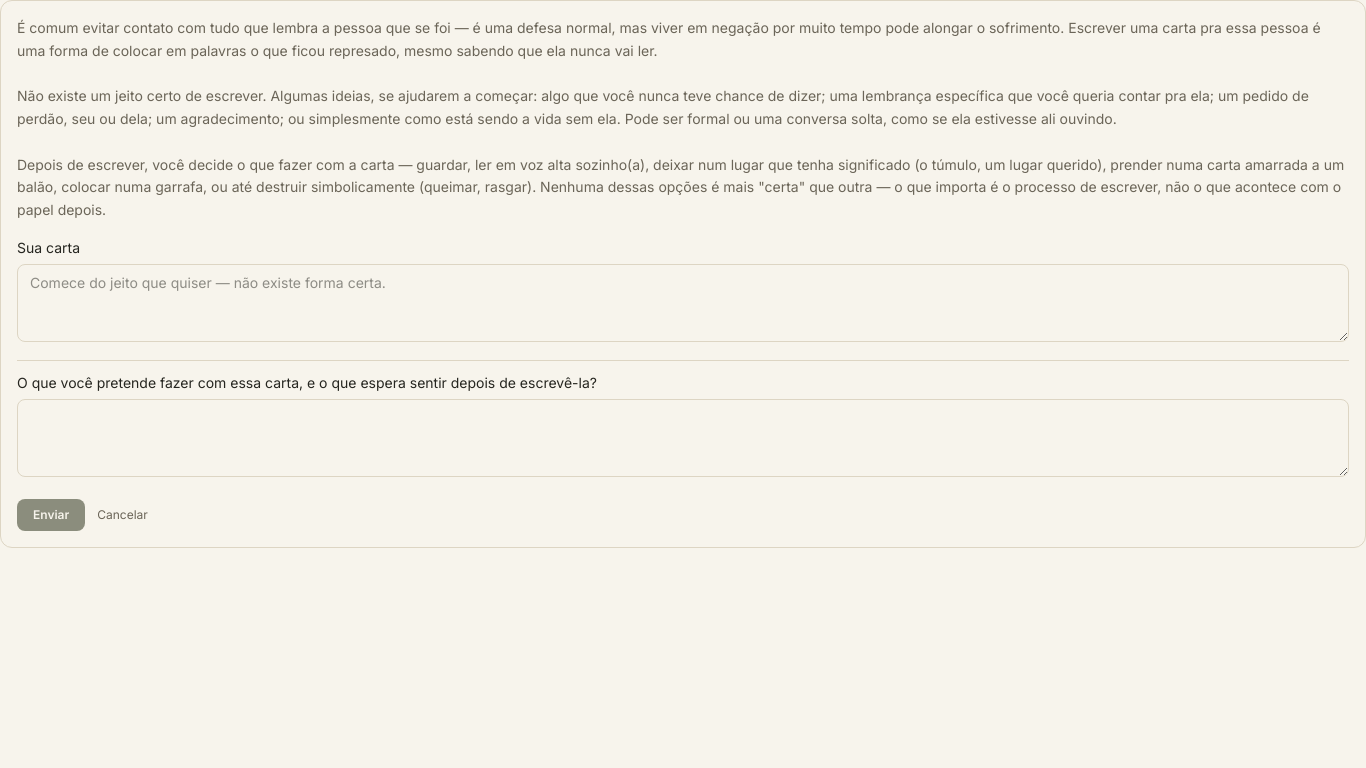
Test: ExerciseForm › submits answers in prompt order and shows a confirmation
This screenshot has width=1366, height=768.
In the text box labelled "Sua carta": point(683, 303) [17,264,1349,342], type "Querida vó, sinto sua falta."
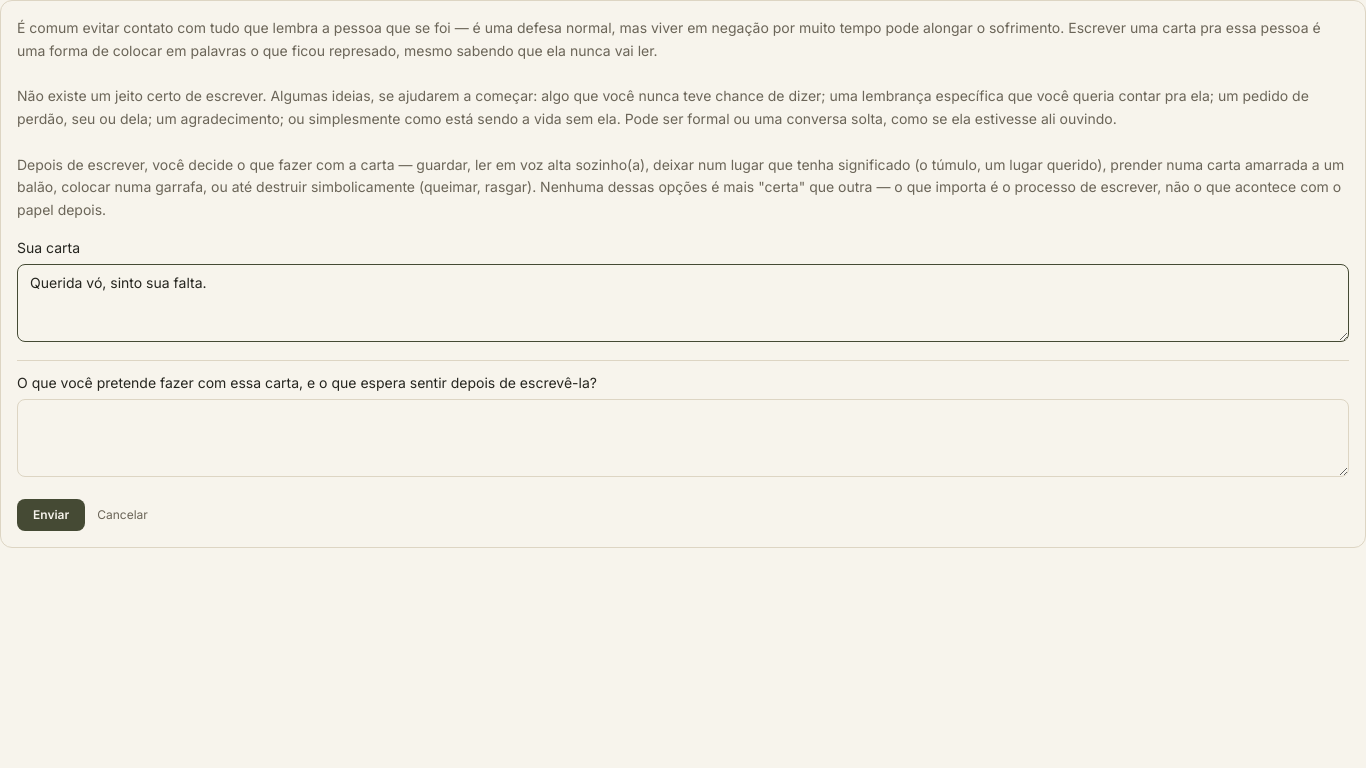
In the 2nd text box: point(683, 438) [17,399,1349,477], type "Espero me sentir mais leve."
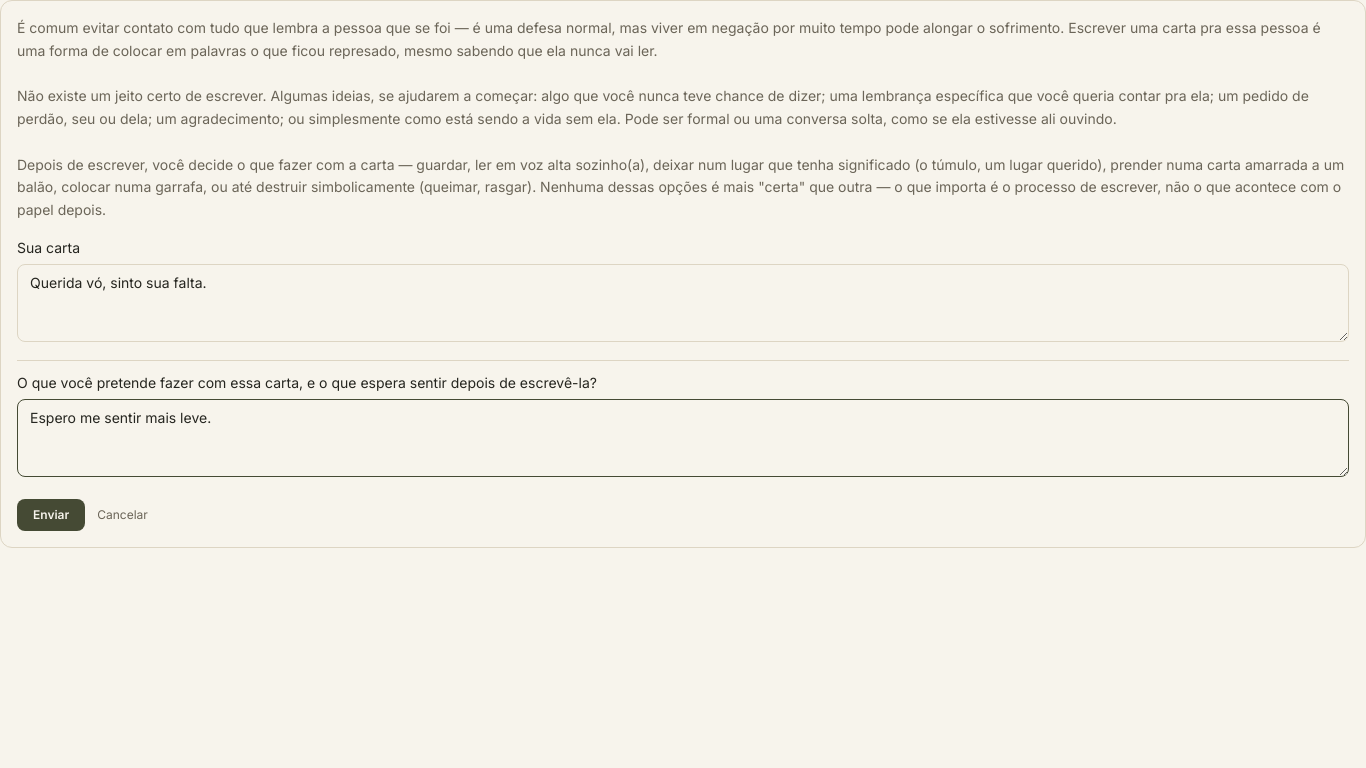
Click the button "Enviar": point(51, 515) [17,499,85,531]
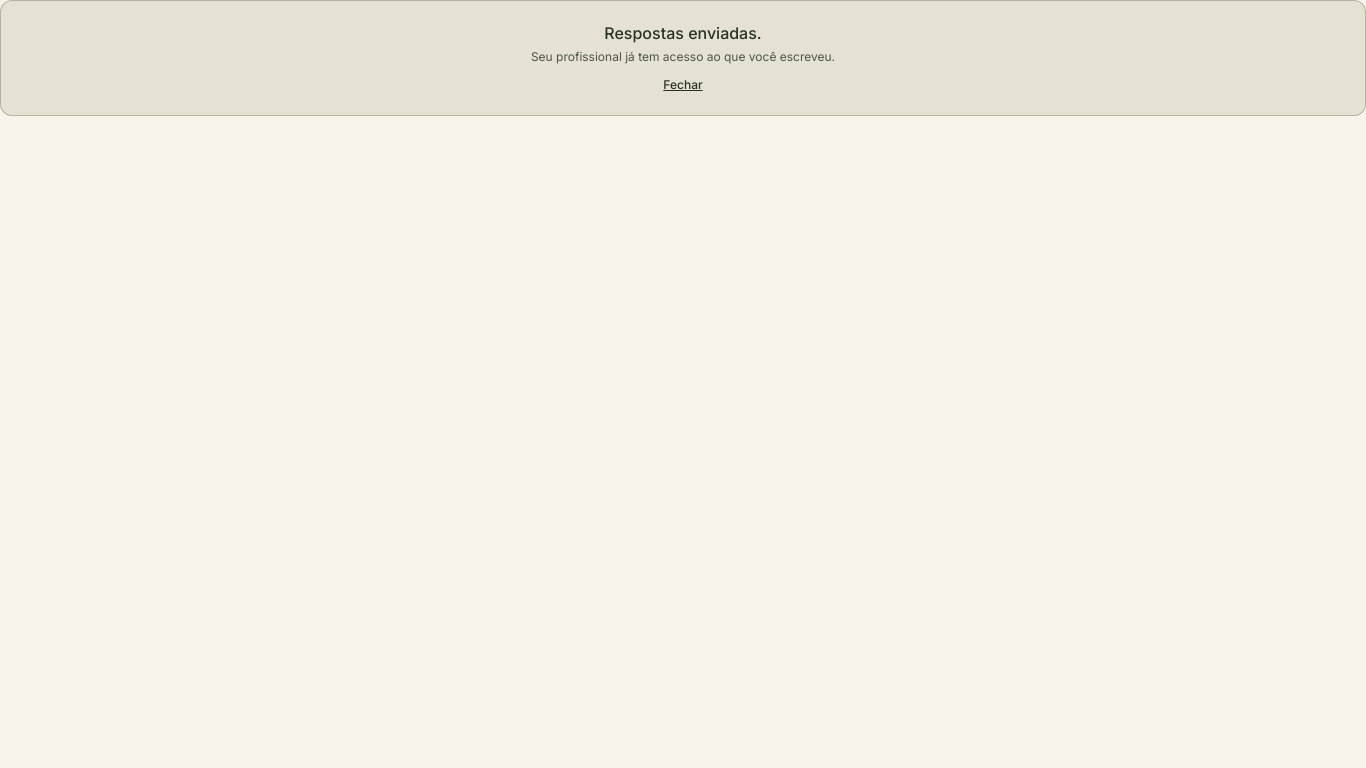
Now the text "Respostas enviadas." is shown, box [604,23,762,43]
